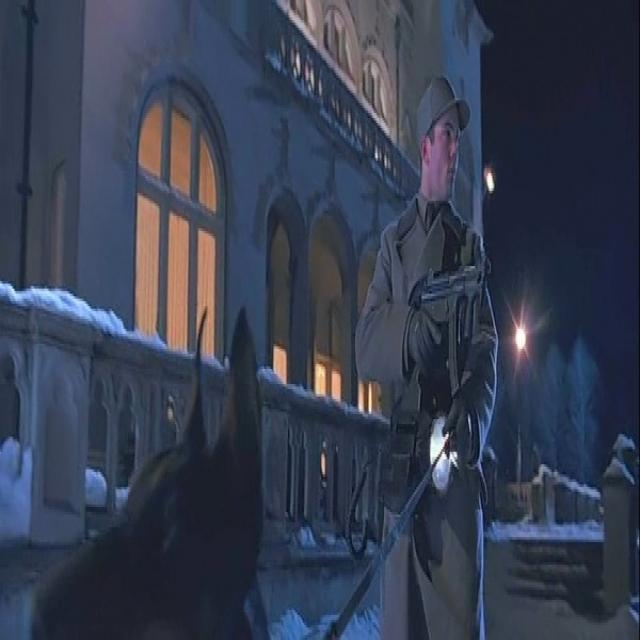rifle: (418, 253, 496, 405)
